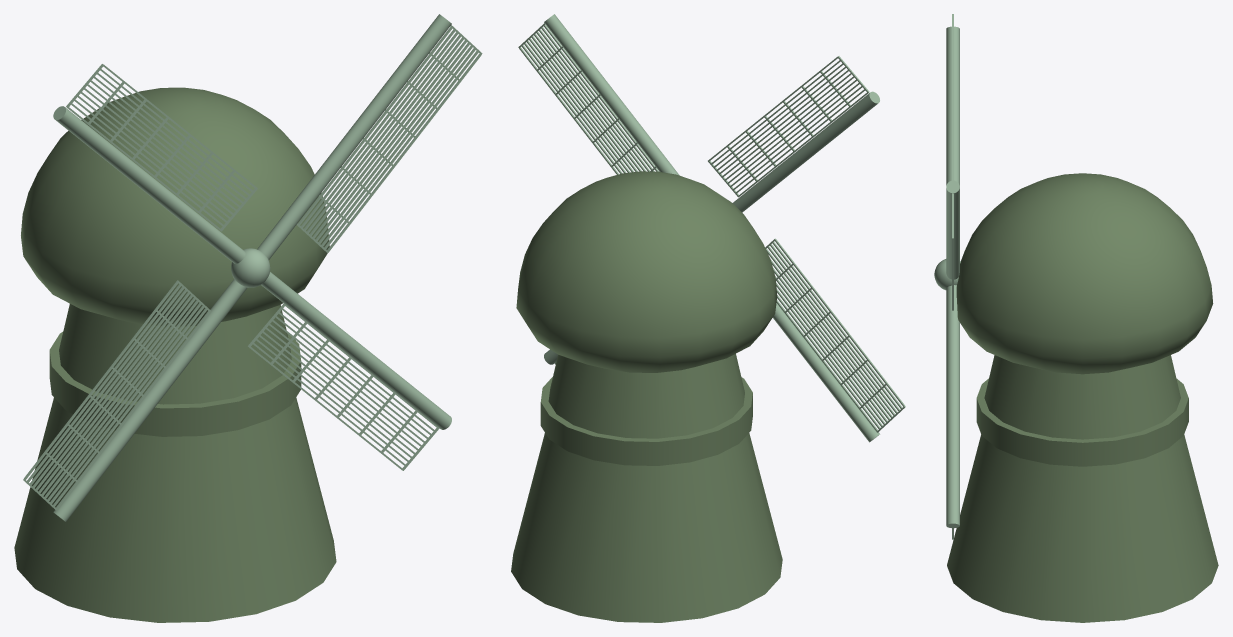
File: windmill.fbx
3 views of the same model, side by side, from view 1: azimuth 30°, elevation 25°; view 2: azimuth 150°, elevation 25°; view 3: azimuth 270°, elevation 25° (orthographic). The views are drawn at different scales.
Visible parts, largest first — view 1: pCylinder3, pSphere1, pCube34, pCylinder1, pCube32, pCylinder2, pCube35, pCube33, pSphere2; view 2: pCylinder3, pSphere1, pCube34, pCube32, pCylinder1, pCube35, pCylinder2; view 3: pCylinder3, pSphere1, pCylinder2, pCylinder1.
Part boxes in pixels (x1,y1,x2,y2): pCylinder3: [14, 304, 336, 622]; pSphere1: [21, 87, 329, 326]; pCube34: [23, 280, 210, 510]; pCylinder1: [53, 14, 451, 521]; pCube32: [296, 25, 482, 252]; pCylinder2: [53, 106, 451, 429]; pCube35: [66, 64, 257, 231]; pCube33: [248, 303, 439, 470]; pSphere2: [231, 248, 270, 287]; pCylinder3: [511, 353, 782, 622]; pSphere1: [516, 171, 777, 372]; pCube34: [765, 238, 905, 432]; pCube32: [518, 23, 658, 174]; pCylinder1: [544, 14, 879, 442]; pCube35: [708, 56, 869, 197]; pCylinder2: [544, 91, 879, 364]; pCylinder3: [947, 355, 1218, 622]; pSphere1: [956, 173, 1213, 374]; pCylinder2: [946, 26, 959, 528]; pCylinder1: [946, 180, 959, 279].
Bounding box in the file's own units: 3.7 × 4.51 × 2.37.
